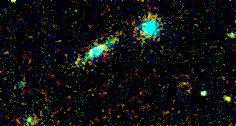star: (215, 85, 236, 115)
